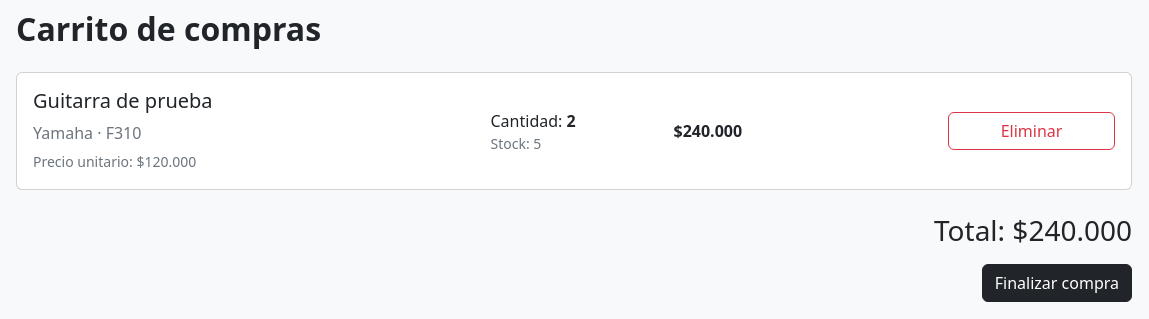
it: Carrito conectado al catalogo real › elimina productos del carrito
Expected: the heading "Guitarra de prueba" is shown, [33, 87, 213, 114]
Step 1. Click the button "Eliminar" → (1032, 131), box [948, 112, 1115, 150]
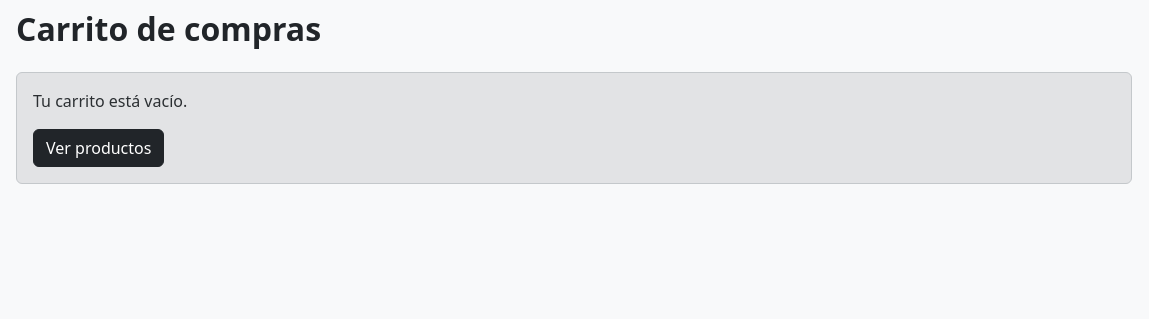
Now the text "Tu carrito está vacío." is shown, box [33, 90, 187, 112]
